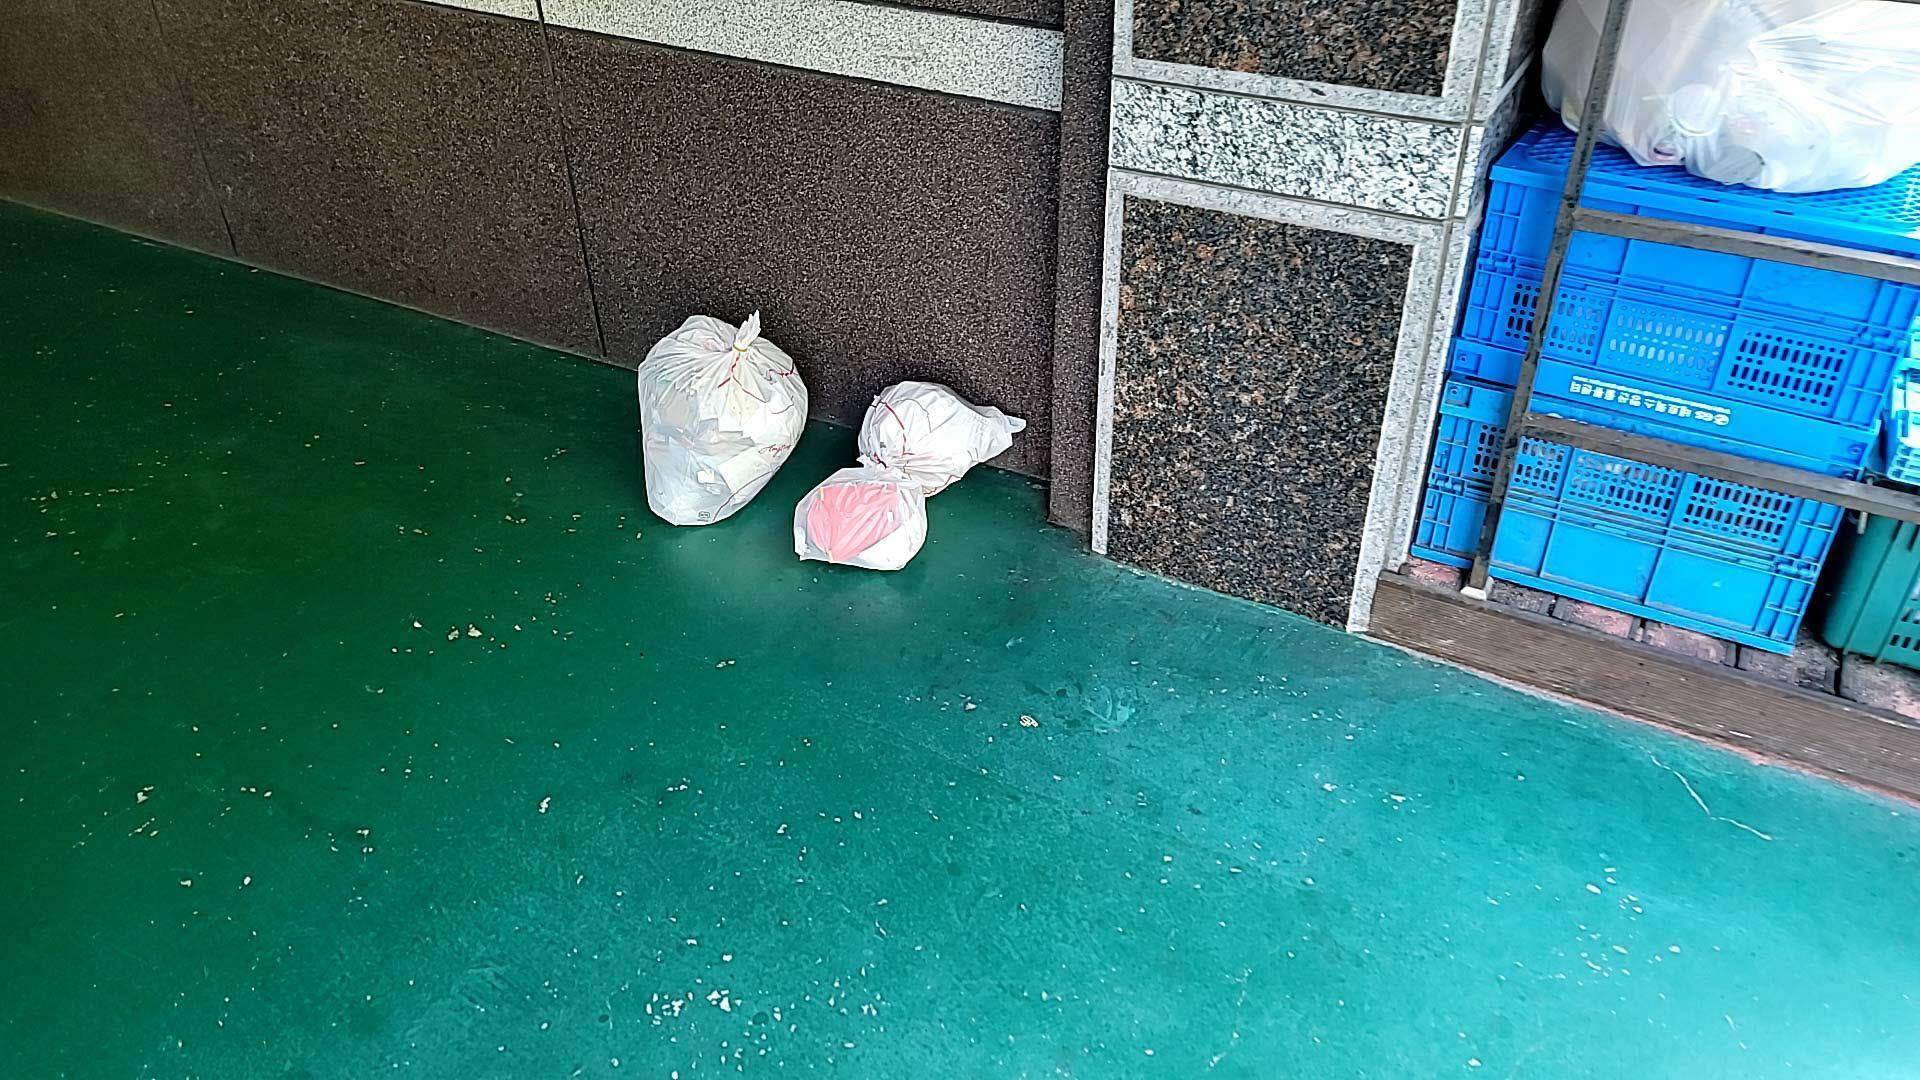white_bag: (624, 291, 814, 535), (851, 371, 1029, 498), (781, 448, 934, 576)
